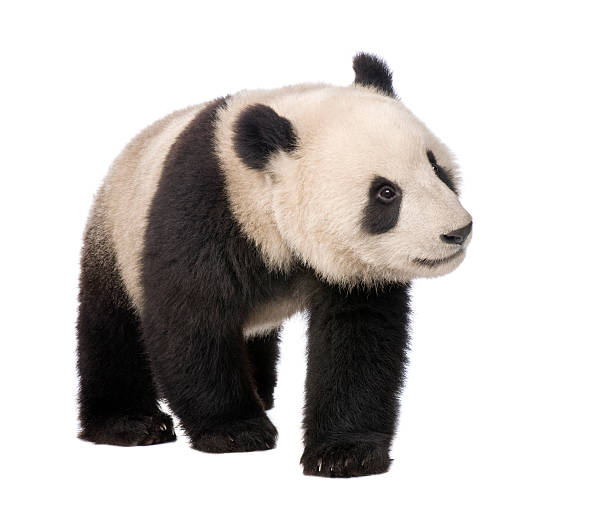panda: (209, 46, 496, 305)
